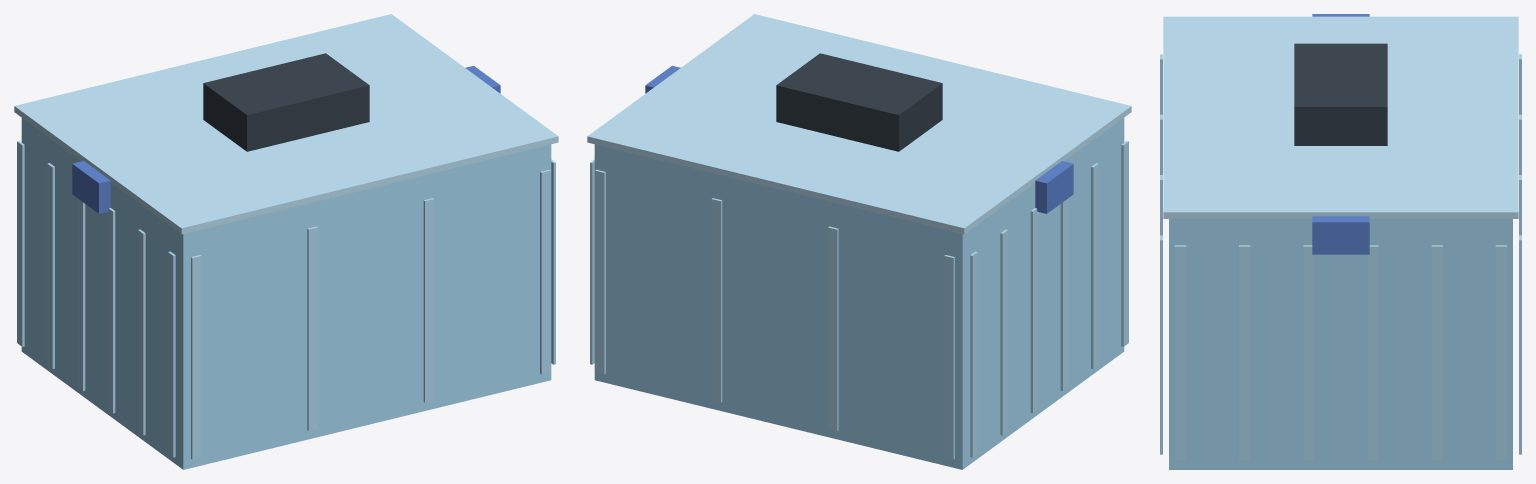
File: smartfish_box_storage_ribbed.glb
The picture shows the model from 3 angles, left to right: view 1: azimuth 30°, elevation 25°; view 2: azimuth 150°, elevation 25°; view 3: azimuth 270°, elevation 25°; orthographic projection. The views are drawn at different scales.
Visible parts, largest first — view 1: body_outer, lid, top_box, rib_short_F_2, rib_short_F_0, rib_short_F_1, rib_short_F_3, rib_long_L_3, rib_long_L_2, rib_long_L_4, rib_long_L_0, rib_long_L_1 (+3 smaller); view 2: body_outer, lid, top_box, rib_short_B_2, rib_short_B_0, rib_short_B_1, rib_short_B_3, rib_long_L_2, rib_long_L_3, rib_long_L_1, rib_long_L_0, rib_long_L_4 (+3 smaller); view 3: body_outer, lid, top_box, rib_long_R_0, rib_long_R_5, rib_long_R_1, rib_long_R_4, rib_long_R_2, rib_long_R_3, handle_R, rib_short_F_3, rib_short_B_3.
Part boxes in pixels (x1,y1,x2,y2): body_outer: [21, 118, 551, 469]; lid: [14, 14, 558, 234]; top_box: [203, 53, 369, 151]; rib_short_F_2: [423, 198, 434, 402]; rib_short_F_0: [191, 255, 201, 459]; rib_short_F_1: [307, 226, 317, 430]; rib_short_F_3: [540, 169, 550, 374]; rib_long_L_3: [107, 208, 115, 413]; rib_long_L_2: [77, 198, 85, 390]; rib_long_L_4: [138, 229, 145, 435]; rib_long_L_0: [17, 141, 24, 346]; rib_long_L_1: [47, 163, 54, 368]; body_outer: [594, 118, 1124, 469]; lid: [587, 14, 1131, 234]; top_box: [776, 53, 942, 151]; rib_short_B_2: [711, 198, 722, 402]; rib_short_B_0: [944, 255, 954, 459]; rib_short_B_1: [828, 226, 838, 430]; rib_short_B_3: [595, 169, 605, 374]; rib_long_L_2: [1030, 208, 1038, 413]; rib_long_L_3: [1060, 198, 1068, 390]; rib_long_L_1: [1000, 229, 1007, 435]; rib_long_L_0: [970, 251, 977, 457]; rib_long_L_4: [1091, 163, 1098, 368]; body_outer: [1169, 219, 1512, 469]; lid: [1163, 16, 1518, 218]; top_box: [1294, 43, 1387, 145]; rib_long_R_0: [1495, 245, 1507, 460]; rib_long_R_5: [1174, 245, 1186, 460]; rib_long_R_1: [1431, 245, 1442, 460]; rib_long_R_4: [1239, 245, 1250, 460]; rib_long_R_2: [1367, 245, 1378, 460]; rib_long_R_3: [1303, 245, 1314, 460]; handle_R: [1312, 216, 1369, 254]; rib_short_F_3: [1160, 235, 1162, 454]; rib_short_B_3: [1519, 235, 1521, 454].
Size of the model in its own units: 0.688 by 0.461 by 0.505.
